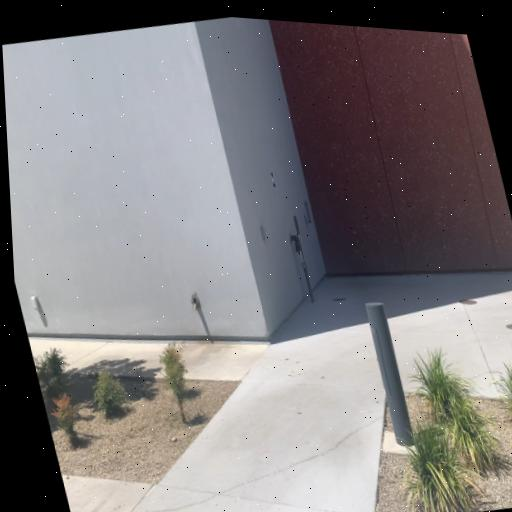target3: (270, 173, 277, 187)
